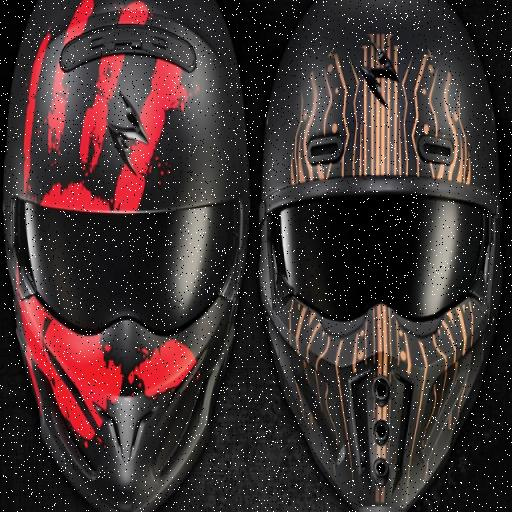Helmet: (242, 0, 508, 512), (0, 0, 244, 512)
